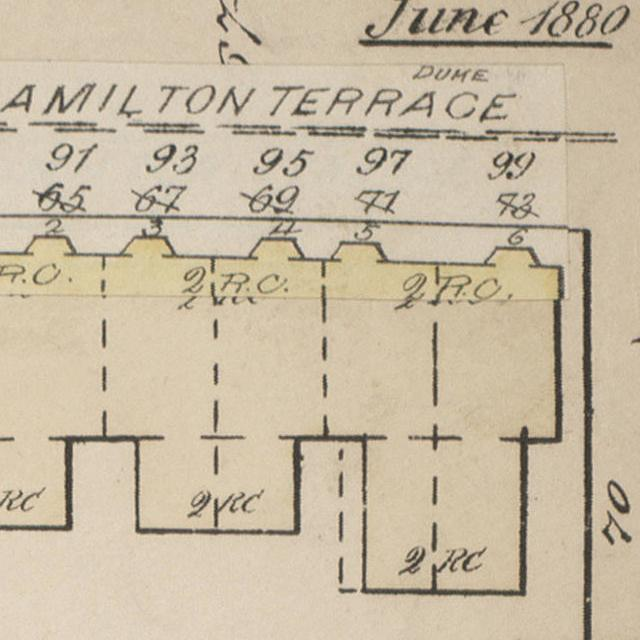building-footprints: (0, 236, 560, 593)
